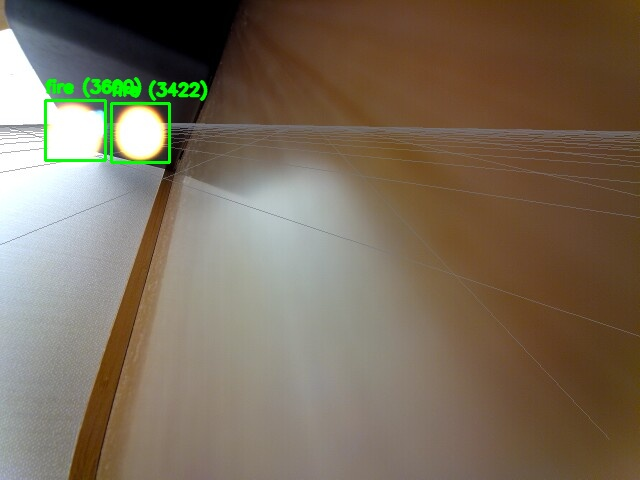fire: (45, 100, 105, 160), (111, 103, 169, 162)
